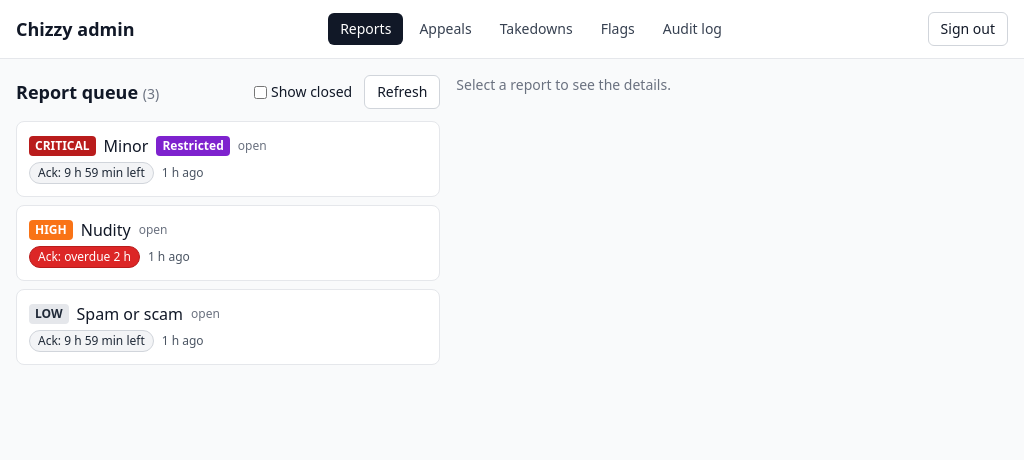
admin console › sorts the open queue by severity with SLA chips, overdue in red
Expected: the text with test id "sla-chip" reads "Ack: overdue 2 h", [29, 246, 140, 268]
Click the checkbox labelled "Show closed".
click(260, 92)  # box [254, 86, 267, 98]
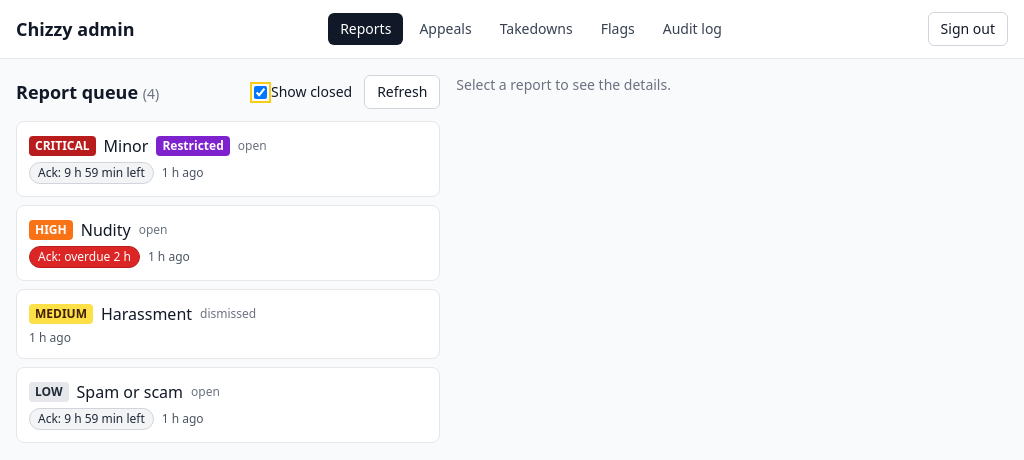
Now the number of buttons with test id "queue-item" is 4, box [16, 121, 440, 197]; [16, 205, 440, 281]; [16, 289, 440, 359]; [16, 367, 440, 443]
